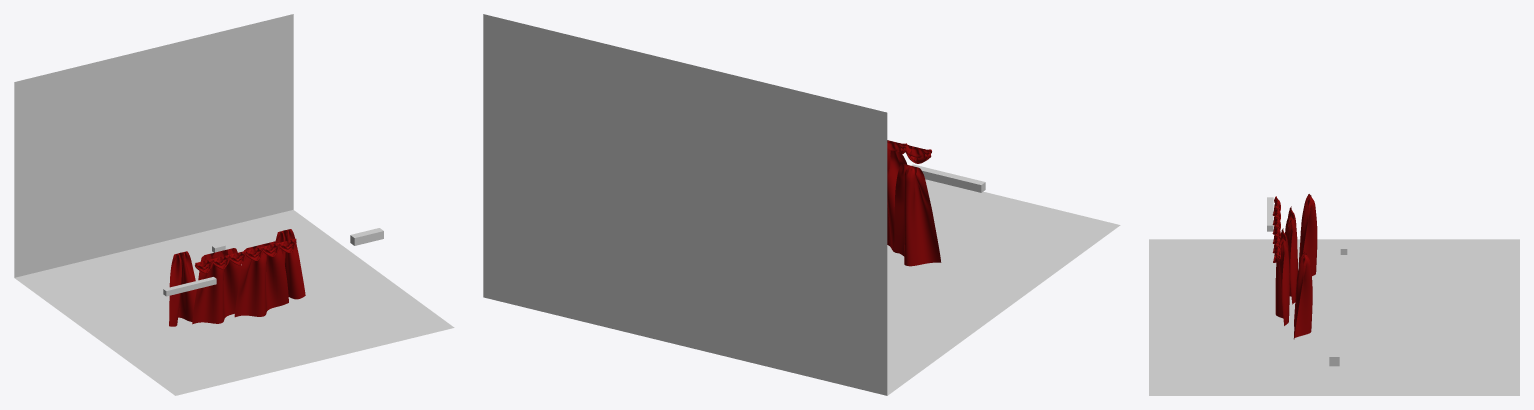
The model's file is Curtains.fbx.
The picture shows the model from 3 angles, left to right: view 1: azimuth 30°, elevation 25°; view 2: azimuth 150°, elevation 25°; view 3: azimuth 270°, elevation 25°; orthographic projection. The views are drawn at different scales.
Parts seen in each view (by area): view 1: Plane.002, Front Curtain.002, Front Curtain, Grid, Grid.001, Cube, Cube.001; view 2: Plane.002, Grid, Front Curtain, Cube; view 3: Plane.002, Grid.001, Front Curtain.002, Grid, Front Curtain.
Boxes of the visible parts, x1=… form: Plane.002: x1=14, y1=14, x2=454, y2=395; Front Curtain.002: x1=234, y1=241, x2=288, y2=317; Front Curtain: x1=192, y1=248, x2=241, y2=324; Grid: x1=169, y1=251, x2=196, y2=326; Grid.001: x1=275, y1=229, x2=305, y2=299; Cube: x1=163, y1=277, x2=216, y2=296; Cube.001: x1=350, y1=228, x2=383, y2=245; Plane.002: x1=483, y1=14, x2=1120, y2=395; Grid: x1=894, y1=164, x2=941, y2=266; Front Curtain: x1=887, y1=149, x2=907, y2=253; Cube: x1=911, y1=164, x2=985, y2=192; Plane.002: x1=1149, y1=239, x2=1519, y2=395; Grid.001: x1=1293, y1=252, x2=1312, y2=339; Front Curtain.002: x1=1275, y1=228, x2=1289, y2=325; Grid: x1=1298, y1=194, x2=1317, y2=275; Front Curtain: x1=1285, y1=206, x2=1297, y2=304.
Bounding box in the file's own units: 7598 × 4954 × 7395.
